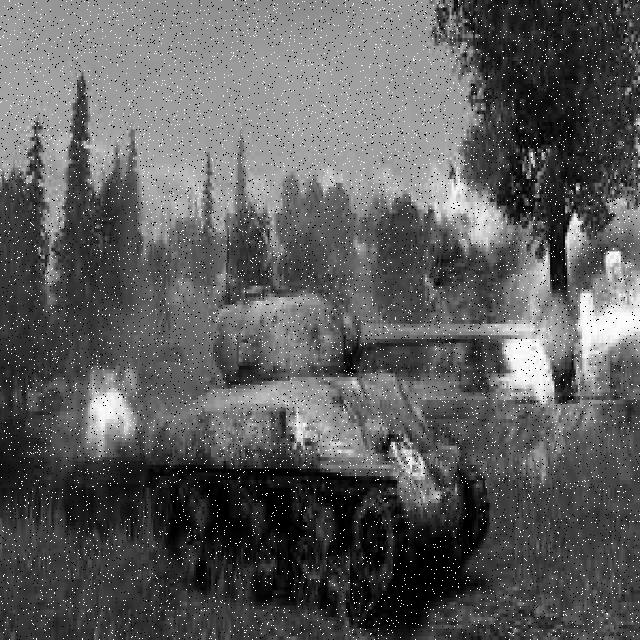MIL_MBT: (144, 263, 538, 617)
